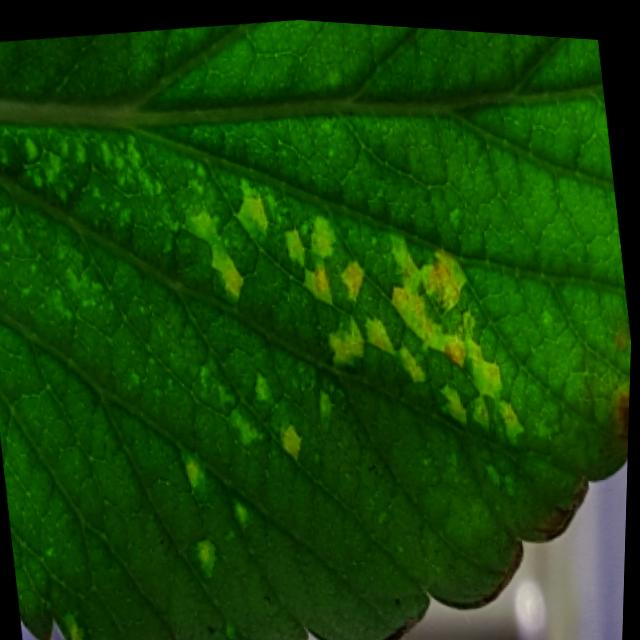Angular Leafspot: (0, 102, 565, 640)
